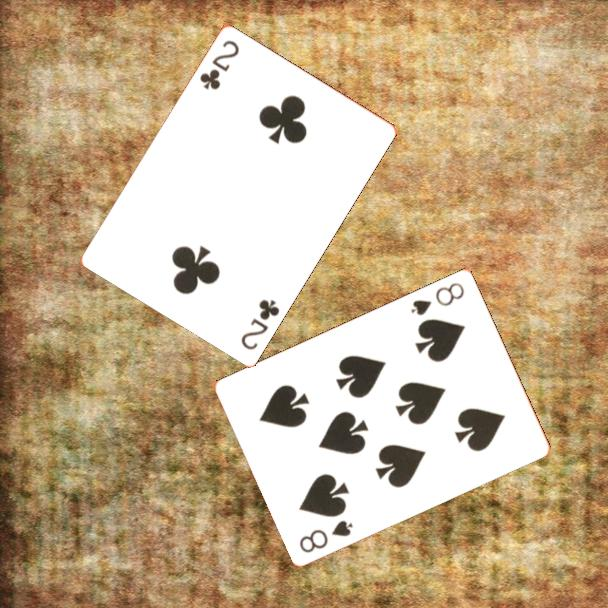c02: (237, 295, 283, 352), (196, 36, 242, 92)
s08: (407, 279, 467, 318), (296, 516, 356, 555)
